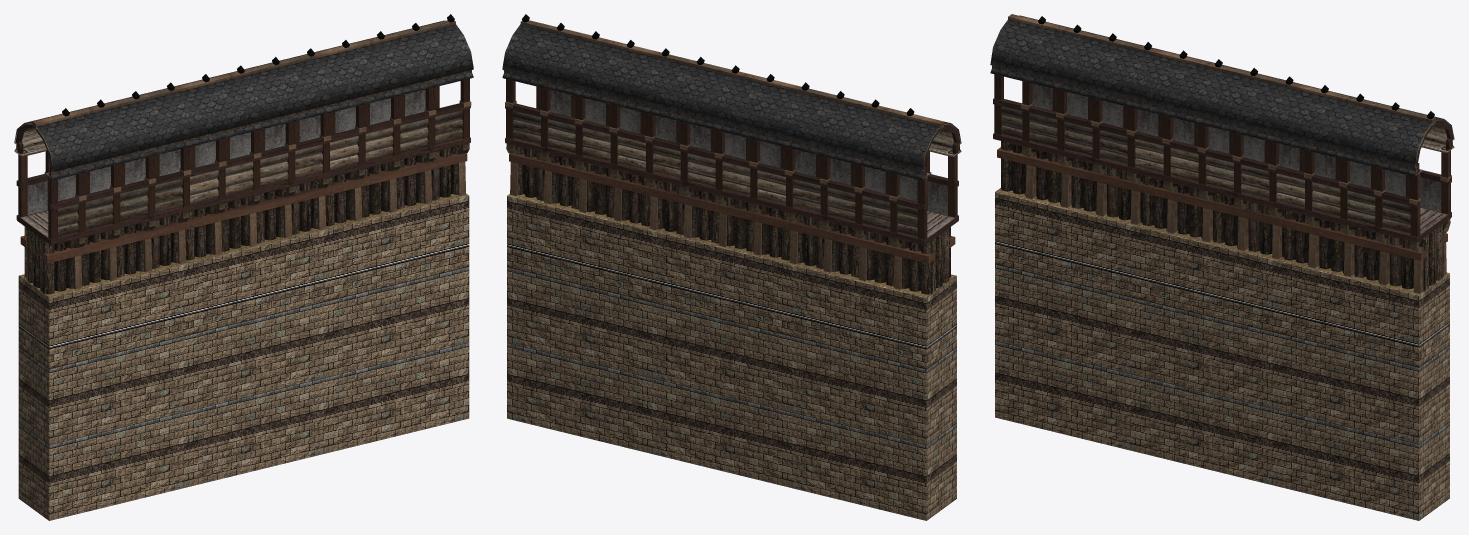
The model's file is maur_wall_segment.glb.
3 views of the same model, side by side, from view 1: azimuth 30°, elevation 25°; view 2: azimuth 150°, elevation 25°; view 3: azimuth 330°, elevation 25° (orthographic).
Visible parts, largest first — view 1: maur_wall_segment_part0, maur_wall_segment_part2, maur_wall_segment_part1; view 2: maur_wall_segment_part0, maur_wall_segment_part2, maur_wall_segment_part1; view 3: maur_wall_segment_part0, maur_wall_segment_part2, maur_wall_segment_part1.
Boxes of the visible parts, <box> form: maur_wall_segment_part0: <box>16,14,471,520</box>; maur_wall_segment_part2: <box>14,20,473,289</box>; maur_wall_segment_part1: <box>21,145,460,294</box>; maur_wall_segment_part0: <box>504,14,959,520</box>; maur_wall_segment_part2: <box>502,20,961,289</box>; maur_wall_segment_part1: <box>515,145,954,294</box>; maur_wall_segment_part0: <box>992,16,1450,520</box>; maur_wall_segment_part2: <box>990,14,1454,293</box>; maur_wall_segment_part1: <box>1001,141,1447,291</box>.
Bounding box in the file's own units: 2 × 1.79 × 0.3258.
Materials: 3 (3 with a texture image).
